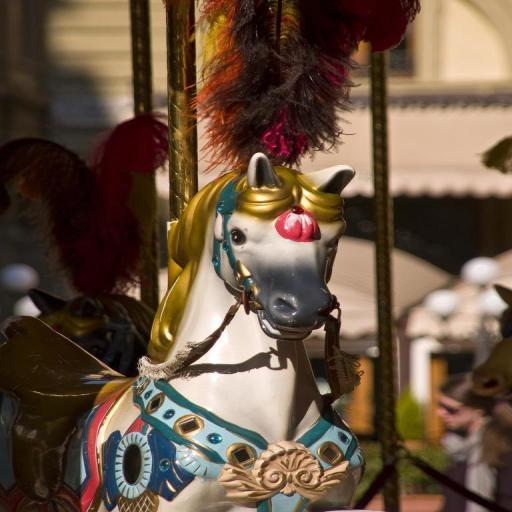horse: (0, 152, 370, 512), (470, 282, 512, 406)
